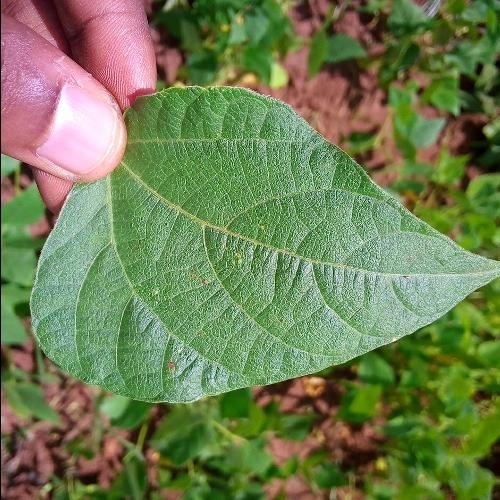embun tepung: (0, 111, 421, 426)
